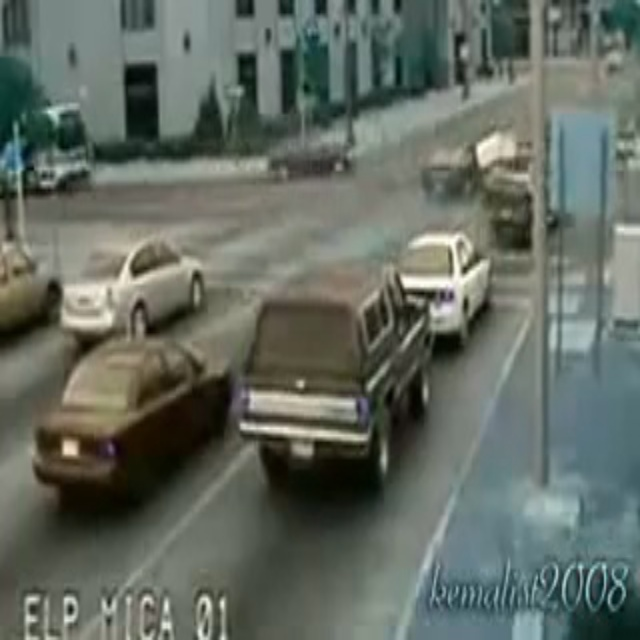acc: (395, 139, 565, 245)
